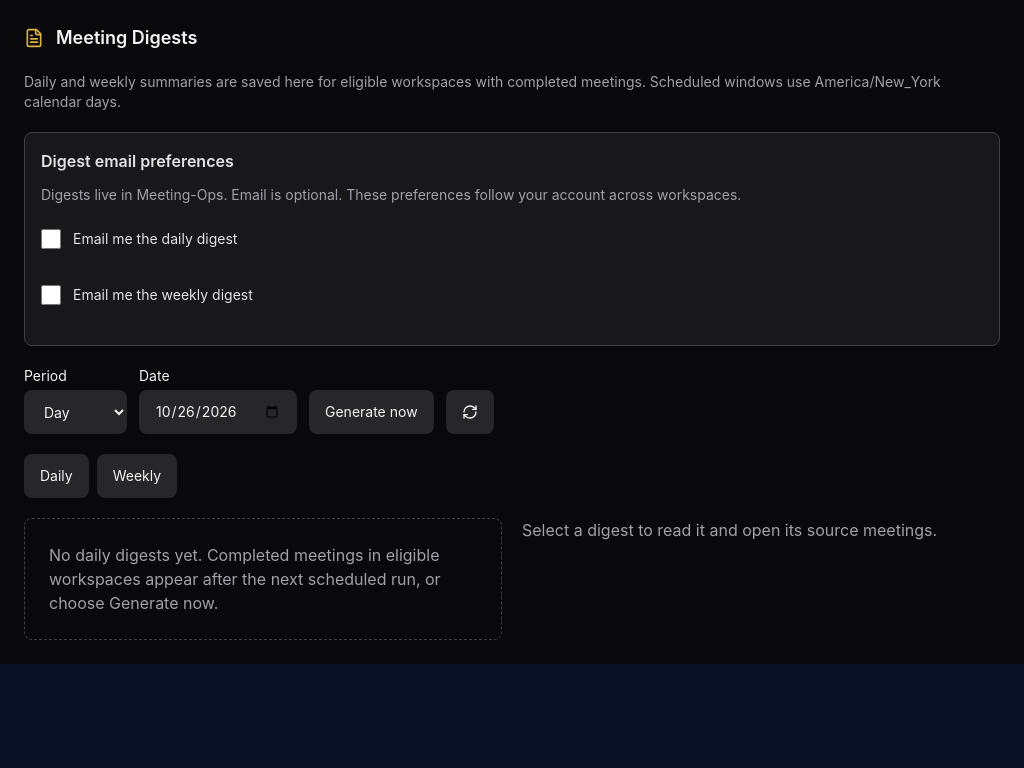
Test: Digests › shows an error message when the digest endpoint fails
Expected: the heading "Meeting Digests" is shown, 24,27 -> 197,48
Click the button "Generate now": (371,412) 309,390 -> 434,434
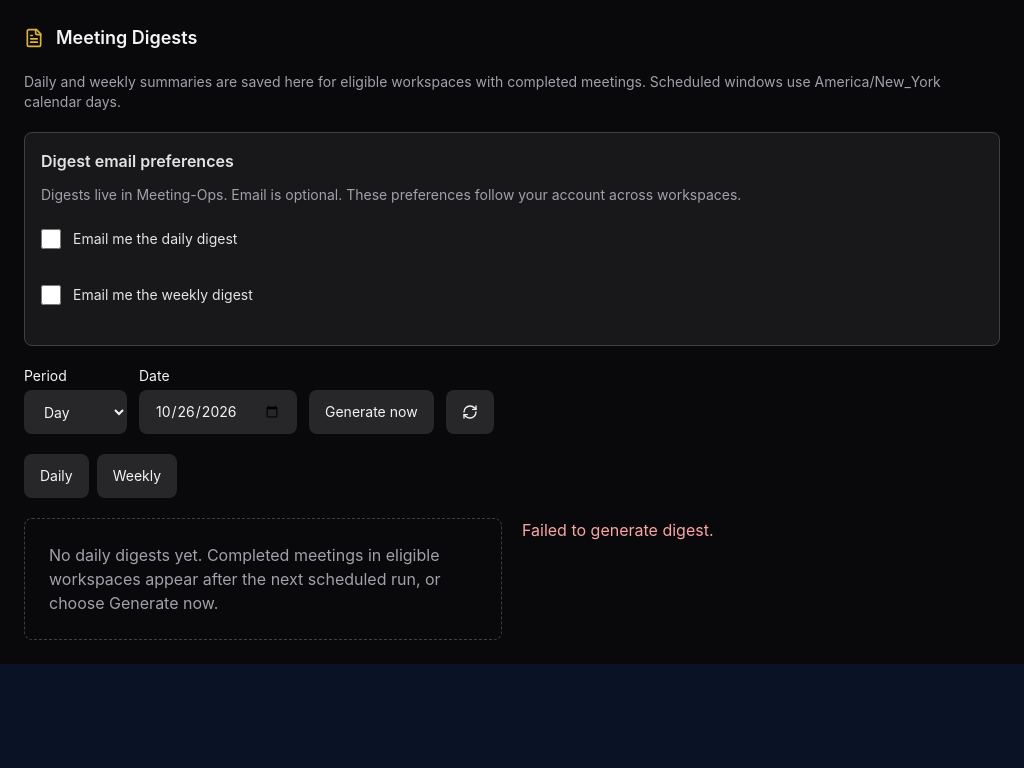
Now the text "Failed to generate digest." is shown, box 522,520 -> 714,540
